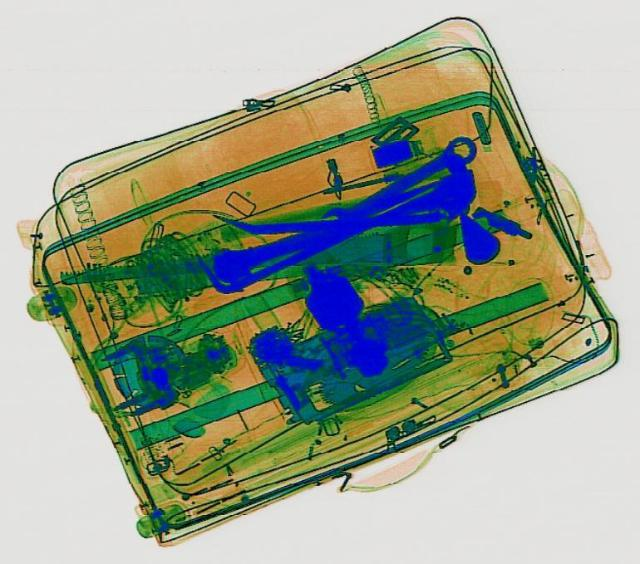Wrench: (314, 132, 482, 237)
